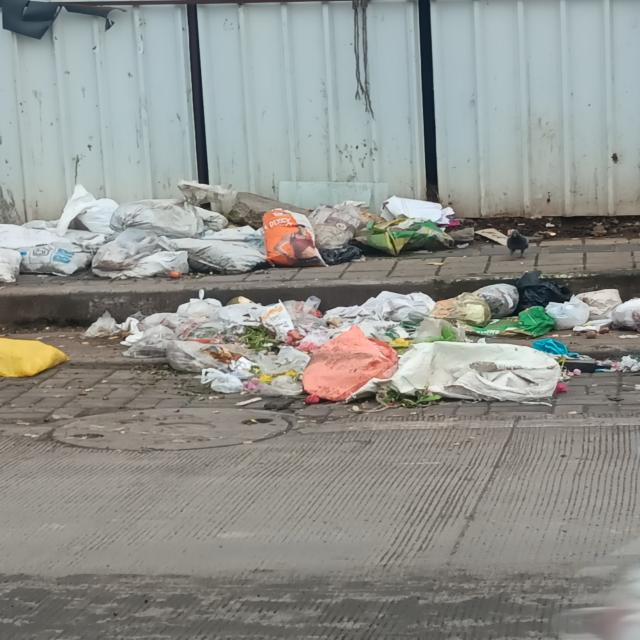garbage: (9, 280, 640, 416), (0, 180, 519, 286)
